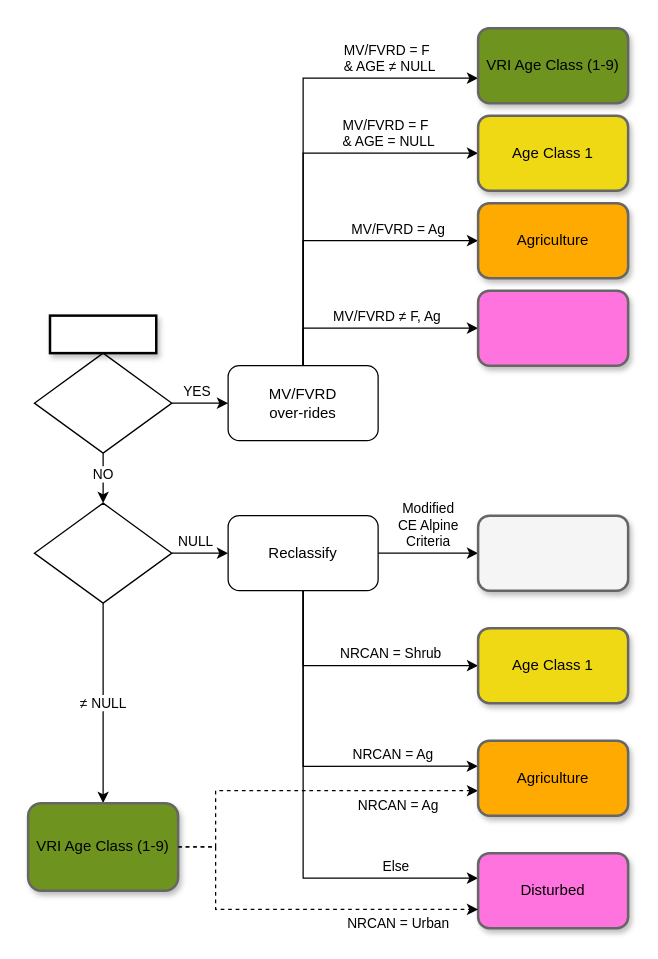
The diagram is 658 pixels wide and 959 high, and some of its shapes have lost their labels. Here are the shapes that lost their labels. From the top down, the centre of each, then its label:
At point 103,335: "START".
At point 553,329: "Distrubed".
At point 102,402: "MV/FVRD Area".
At point 102,552: "VRI Age Class".
At point 553,554: "Alpine".
